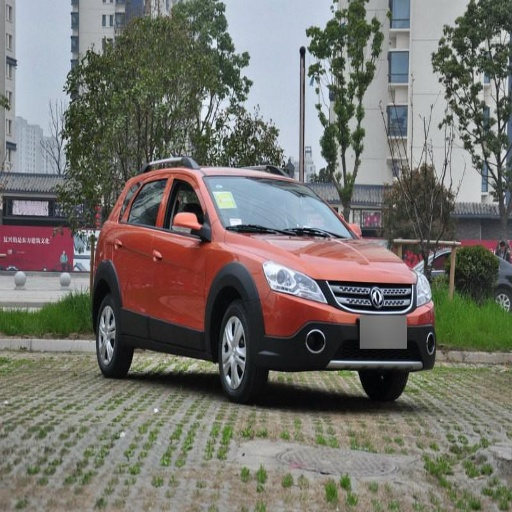front_bumper: (257, 280, 434, 369)
front_right_door: (150, 174, 211, 344)
front_right_light: (264, 261, 327, 302)
